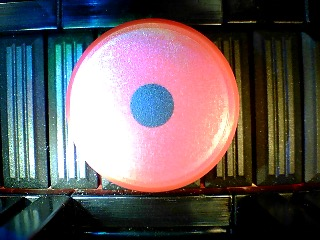BOHO: (65, 19, 240, 193)
